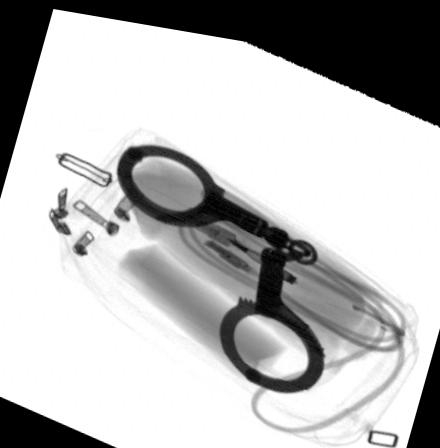Bullet: (223, 230, 297, 277)
HandCuffs: (111, 139, 324, 383)
